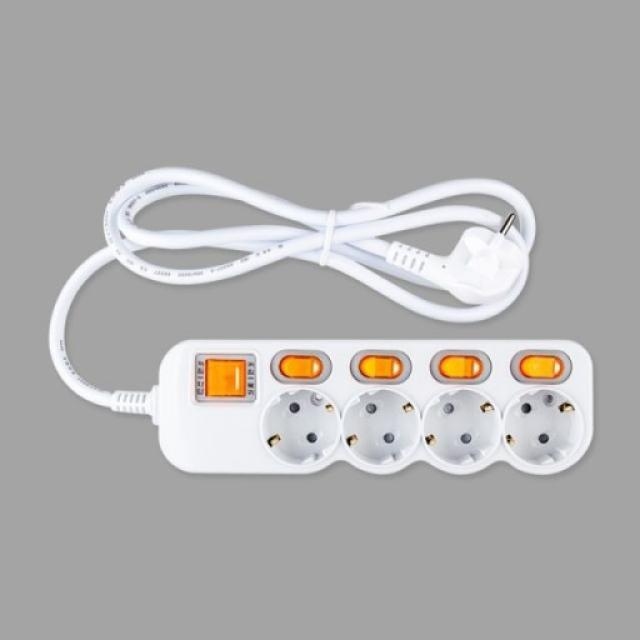typeb: (132, 318, 617, 503)
